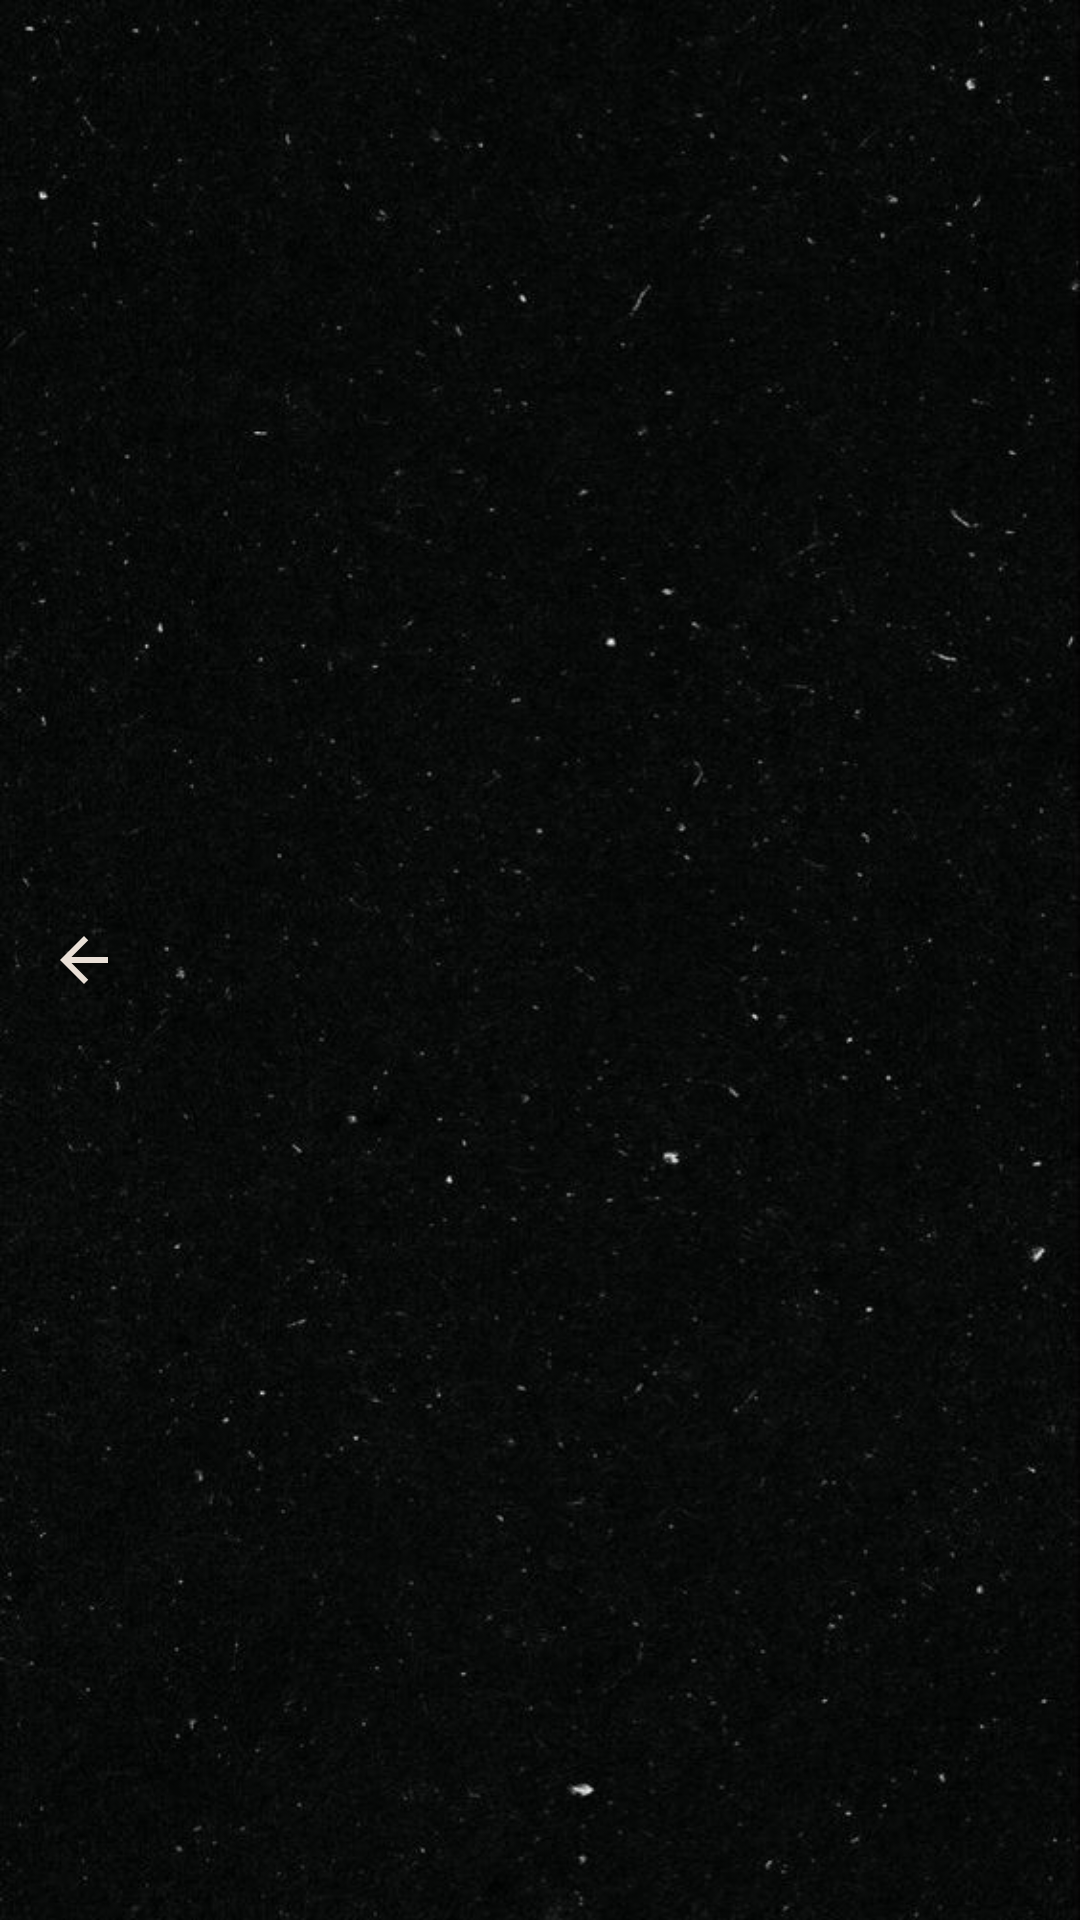

Screen size 1080px x 1920px. Icon name, then its center in pixels as (x,y):
back: (84,957)
